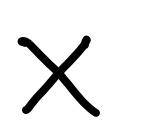mult: (18, 35, 100, 117)
